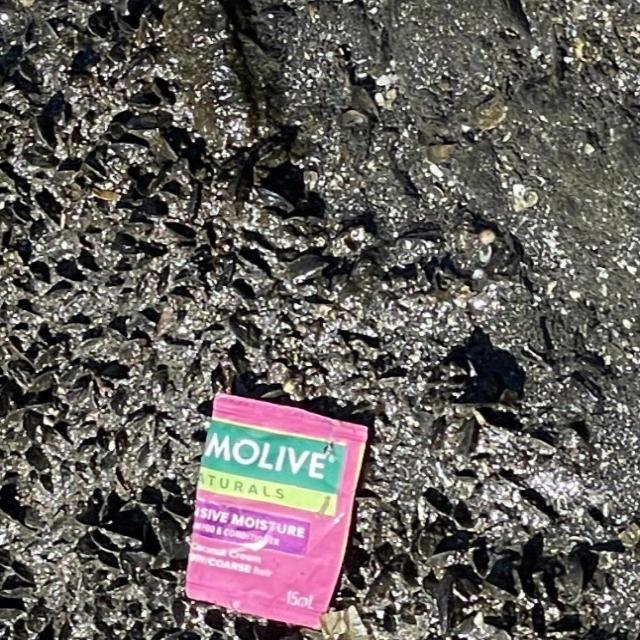plastic_waste: (184, 390, 372, 626)
